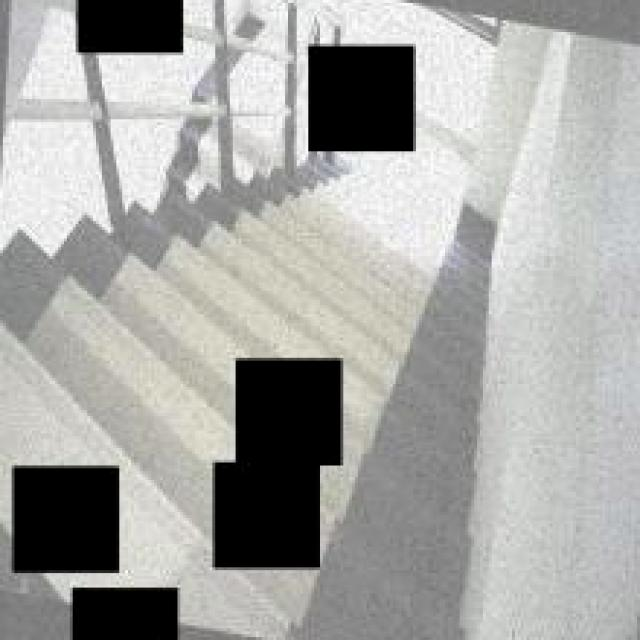downstair: (7, 292, 207, 455), (277, 199, 461, 350)
